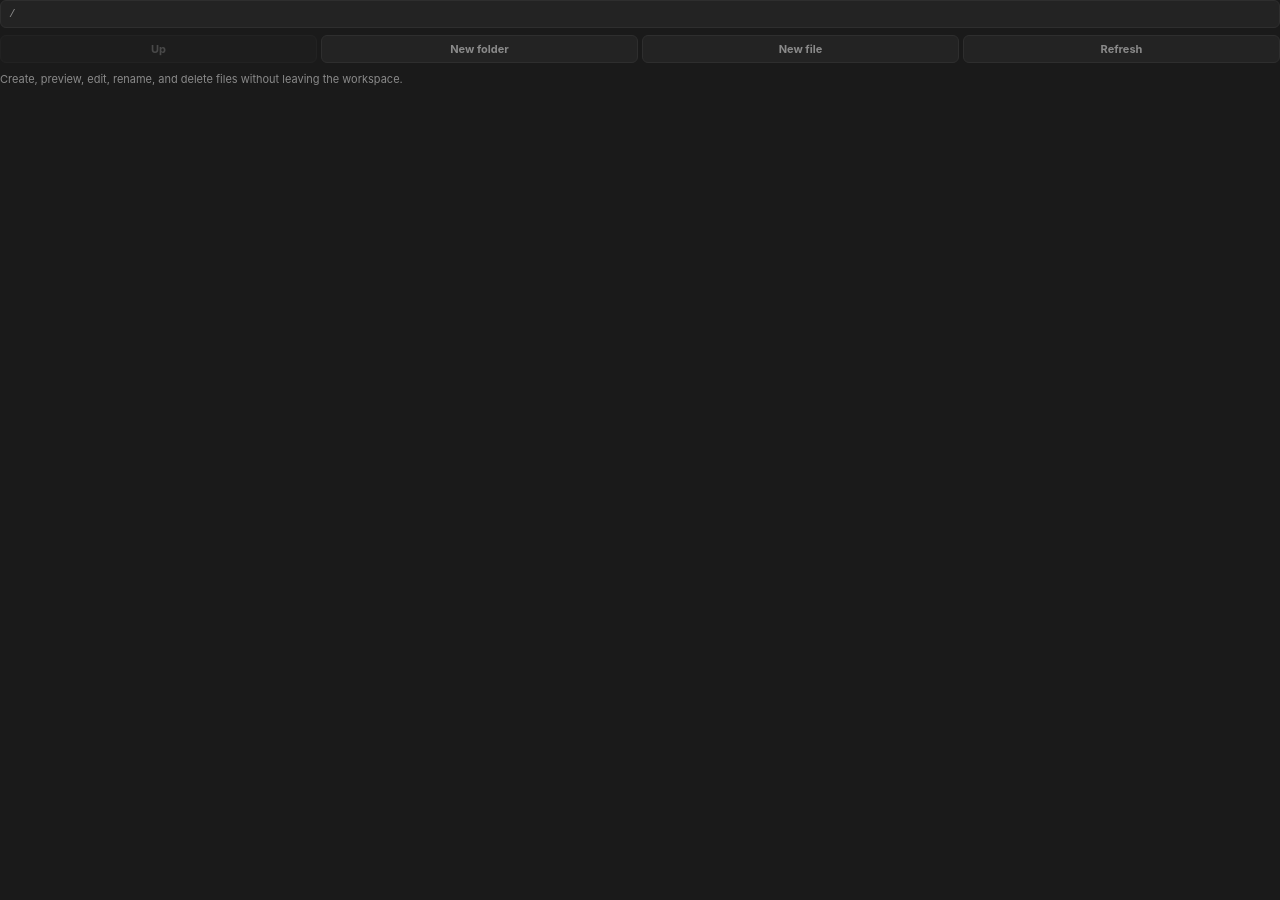
Test case: WorkspaceFilePanel - Error Handling Properties › Property 7: Error messages distinguish error types › should format conflict errors distinctly
Click the button "New folder".
click(480, 49)  # box [321,35,638,63]
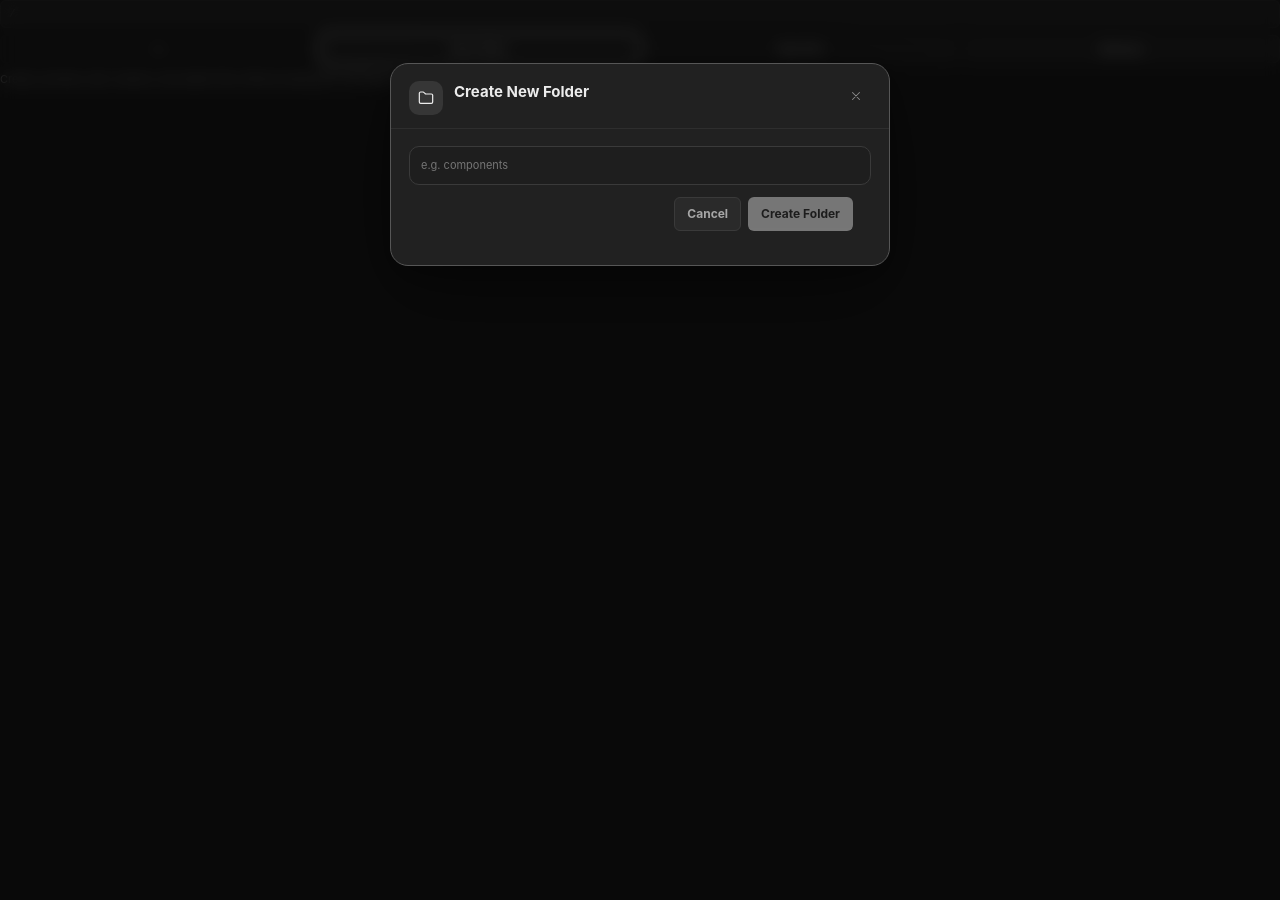
Type "existing" into the field.
click(640, 166); type("existing")  # box [409,146,871,185]
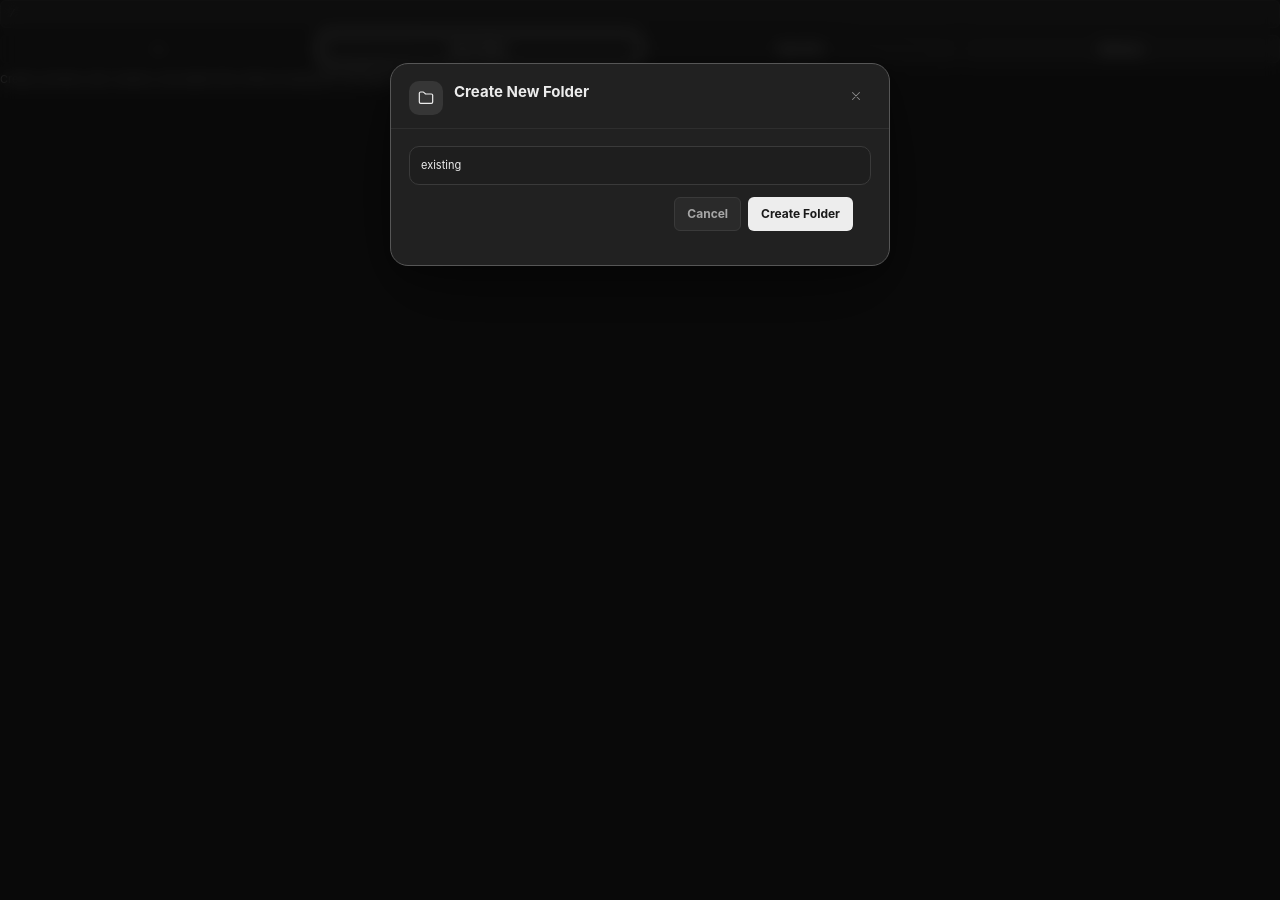
Click the button "Create Folder".
click(801, 214)  # box [748,197,853,231]
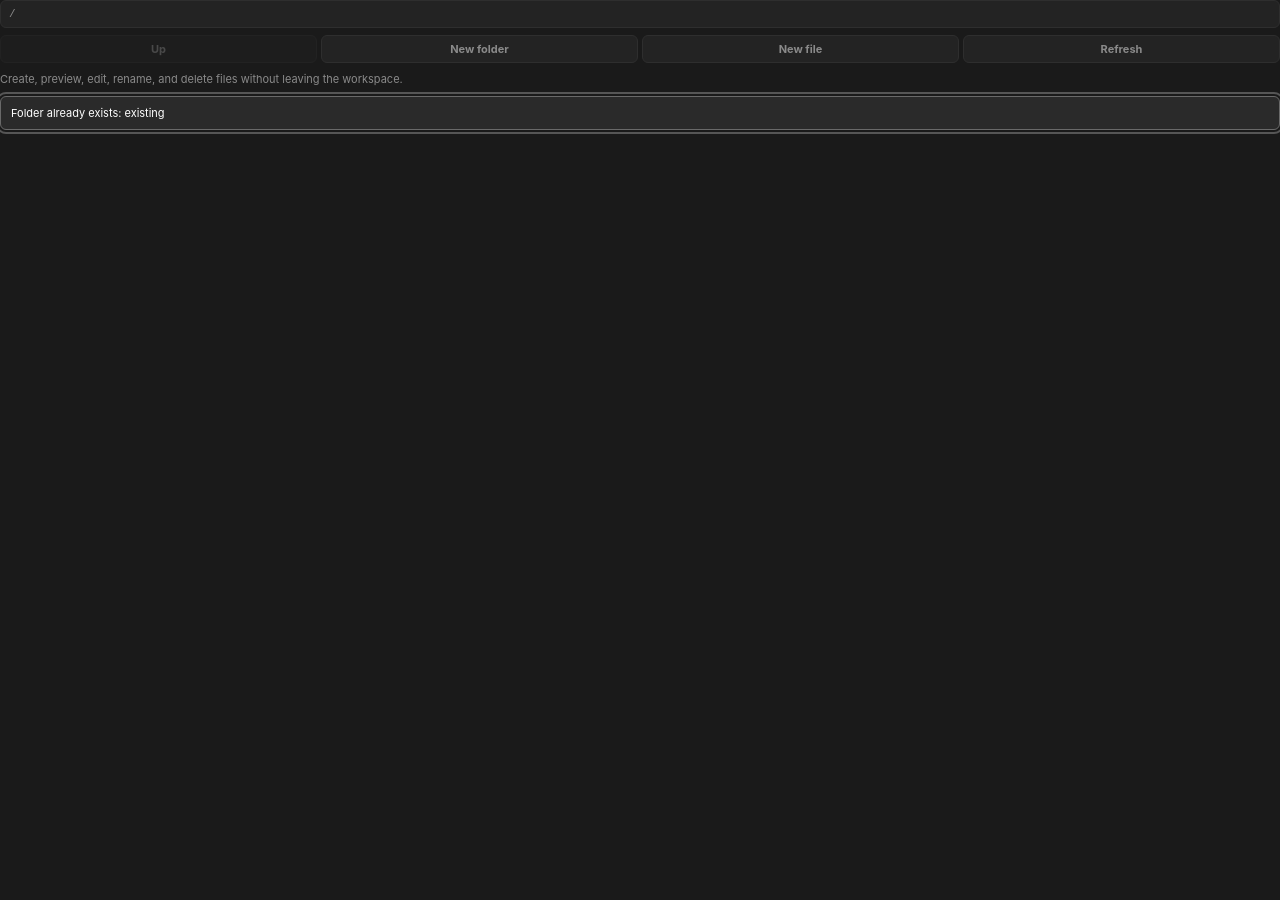
Result: the text "Folder already exists: existing" is shown at [0,96,1279,130]
